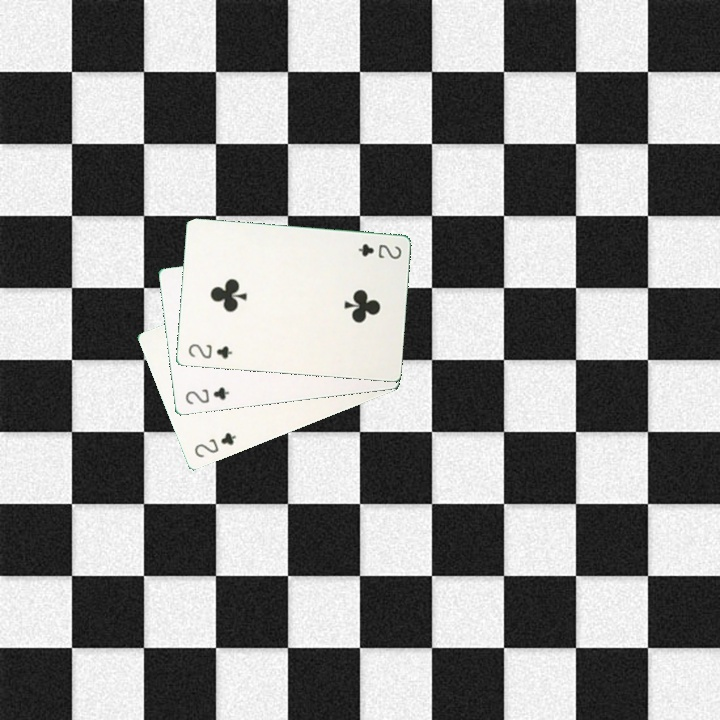2c: (190, 428, 239, 460), (181, 383, 232, 407), (354, 240, 404, 262), (184, 340, 235, 361)
